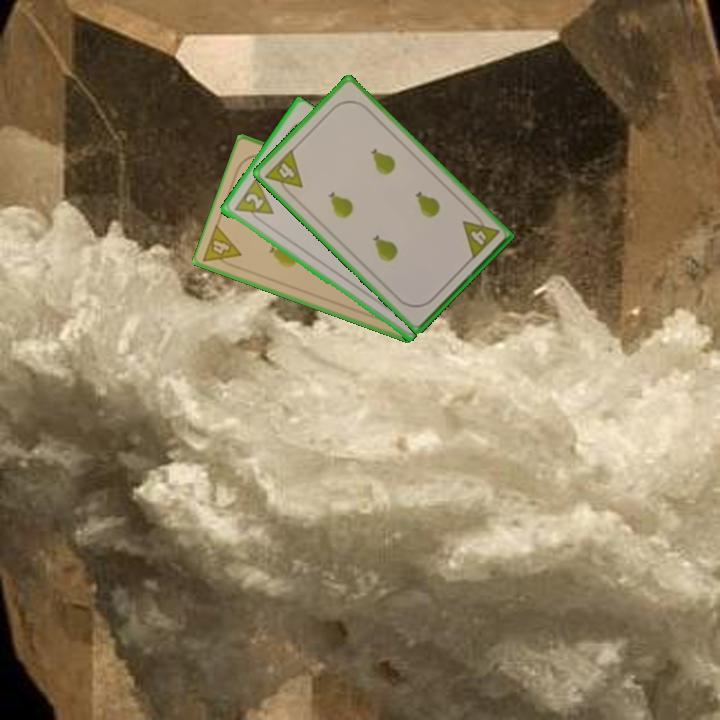2p: (230, 176, 276, 227)
4p: (261, 145, 306, 200), (199, 221, 245, 272), (459, 209, 502, 262)
